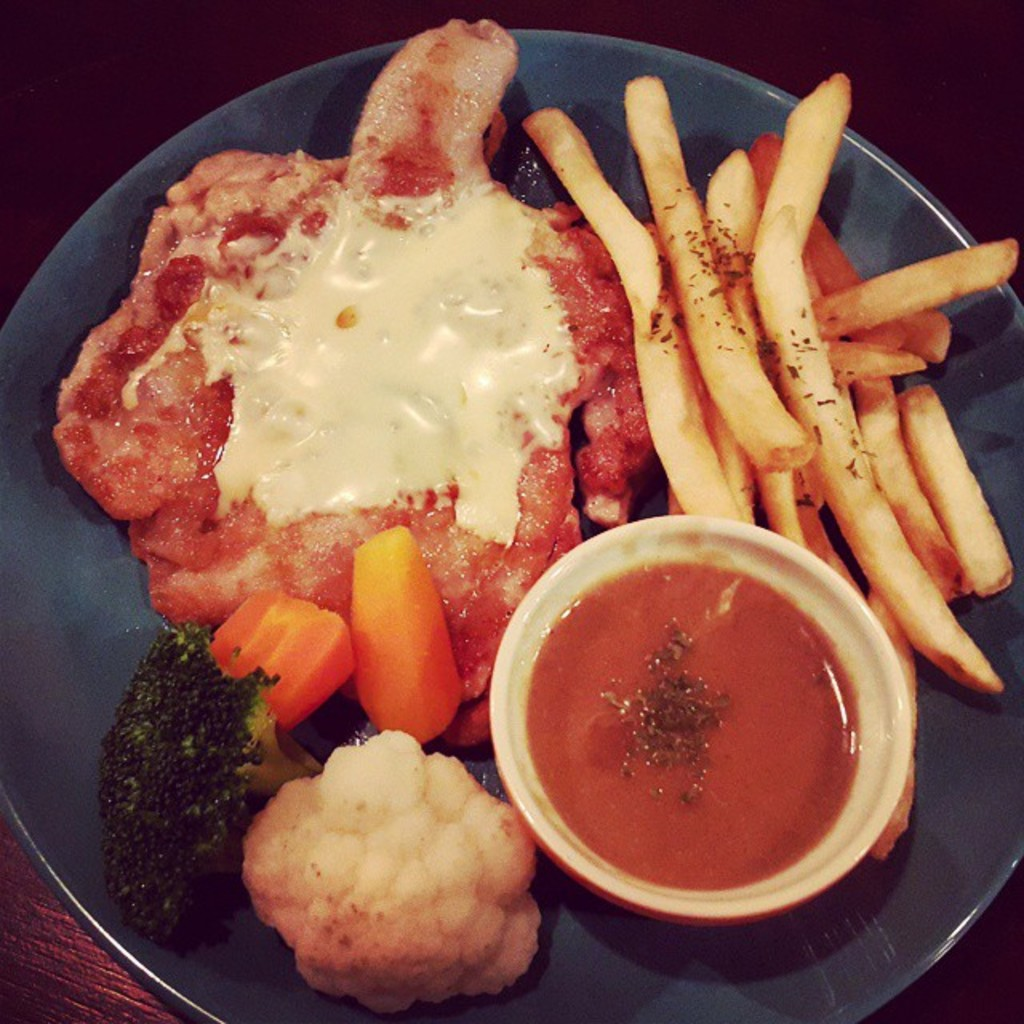French fries: (516, 80, 1009, 660)
